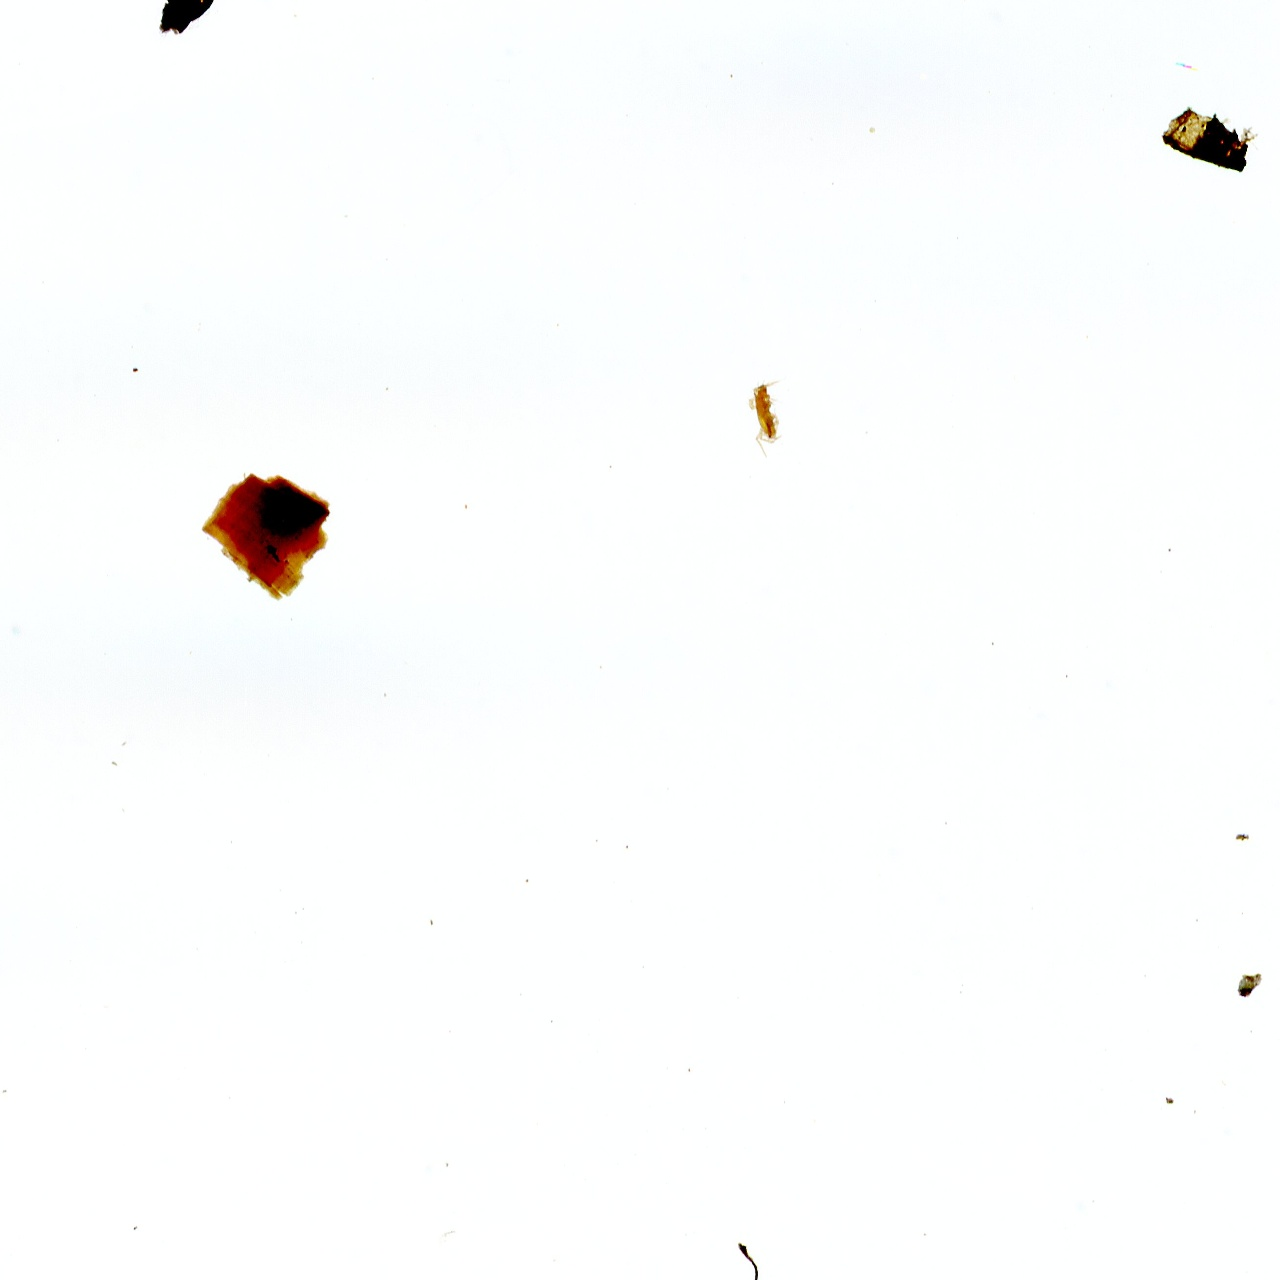arthropod: (745, 374, 787, 461)
